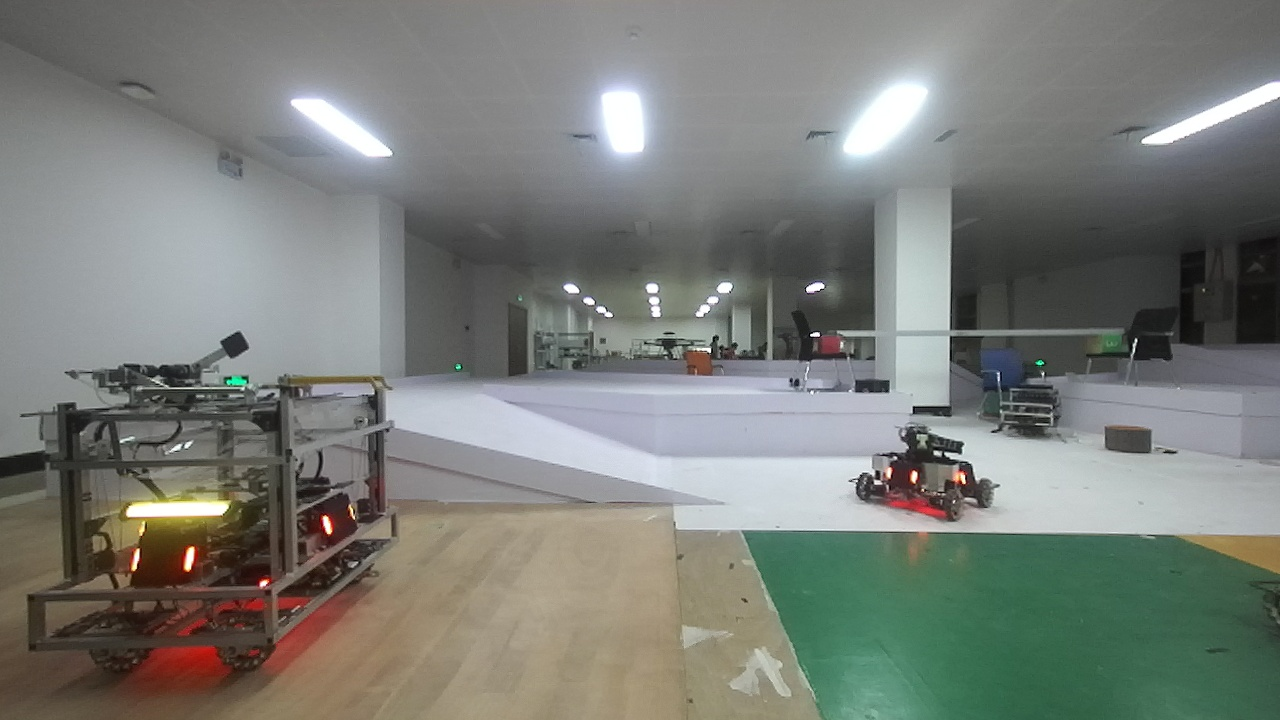car: (8, 352, 415, 691), (845, 430, 1008, 529)
